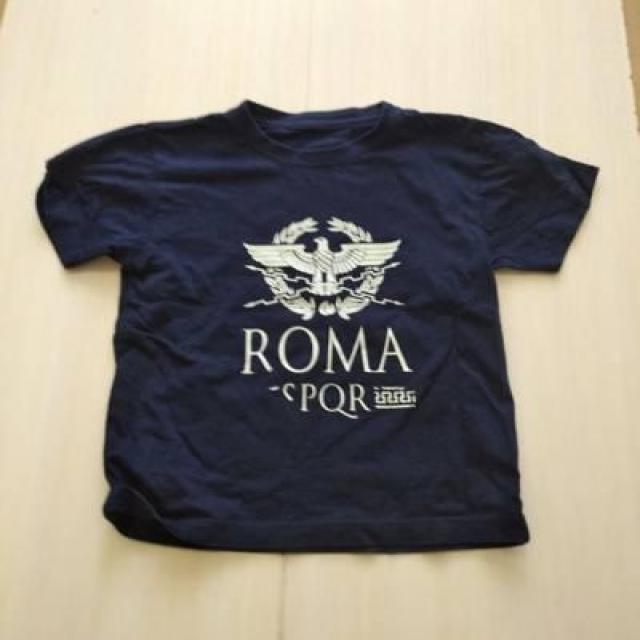shirt: (34, 98, 599, 554)
